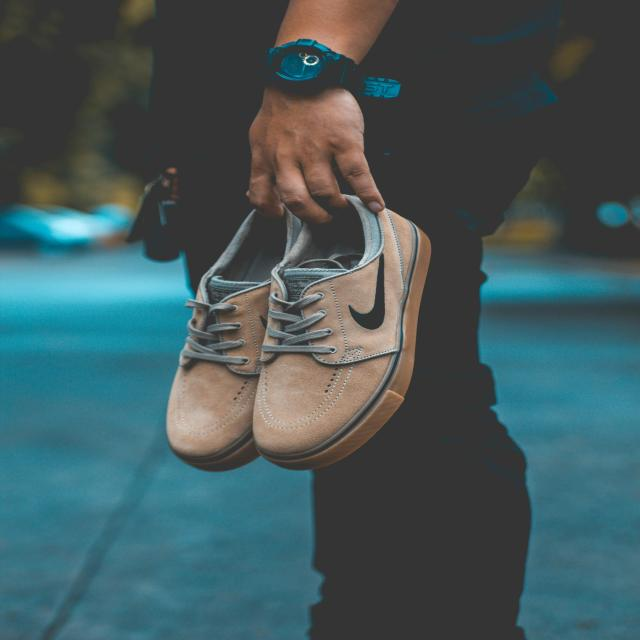nike: (339, 252, 405, 340)
